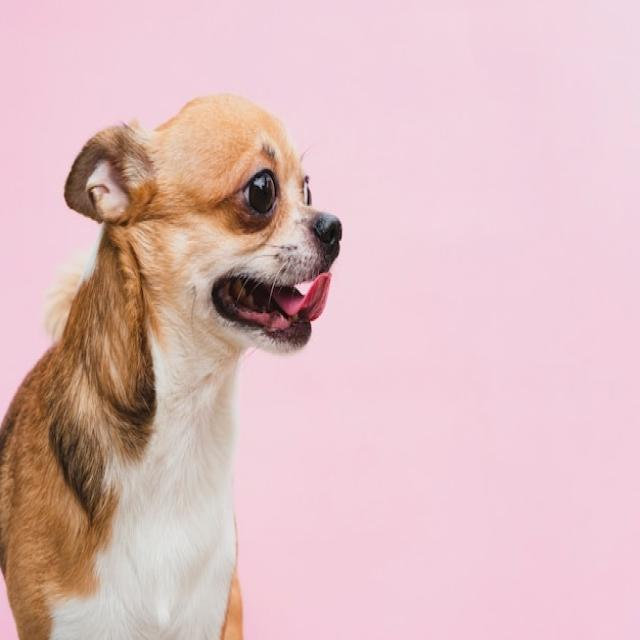Dog: (0, 92, 342, 640)
